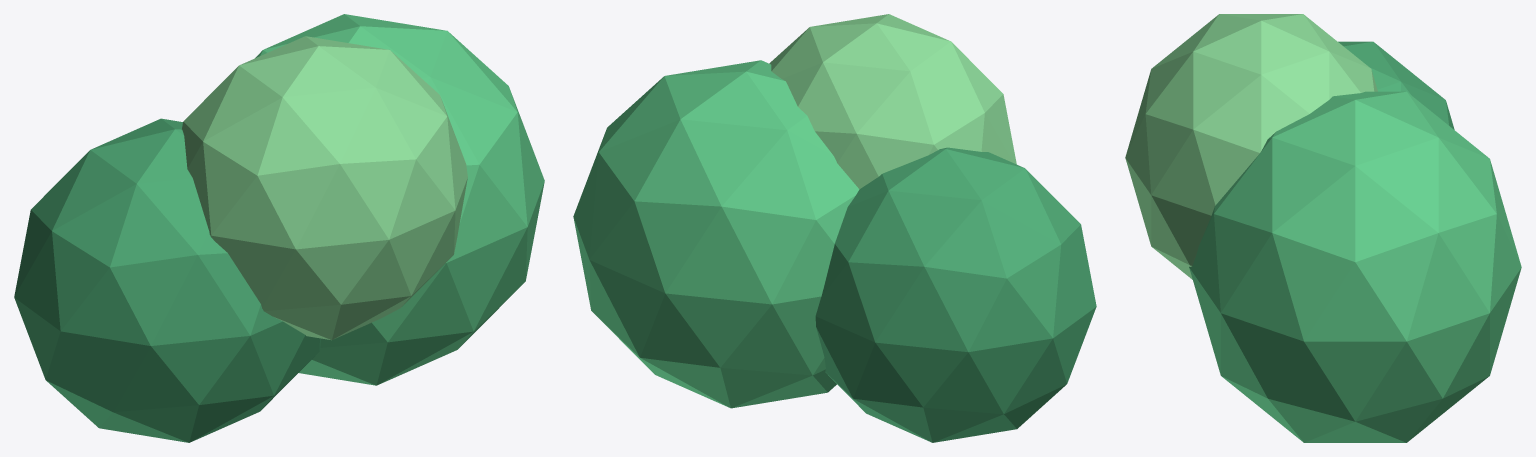
Rendered from shrub_round.glb.
3 views of the same model, side by side, from view 1: azimuth 30°, elevation 25°; view 2: azimuth 150°, elevation 25°; view 3: azimuth 270°, elevation 25° (orthographic). The views are drawn at different scales.
Visible parts, largest first — view 1: shrub_round__Shrub lobe.002, shrub_round__Shrub lobe, shrub_round__Shrub lobe.001; view 2: shrub_round__Shrub lobe.001, shrub_round__Shrub lobe, shrub_round__Shrub lobe.002; view 3: shrub_round__Shrub lobe.001, shrub_round__Shrub lobe.002, shrub_round__Shrub lobe.
Part boxes in pixels (left/top/right/bottom): shrub_round__Shrub lobe.002: left=182, top=36, right=467, bottom=340; shrub_round__Shrub lobe: left=14, top=118, right=320, bottom=442; shrub_round__Shrub lobe.001: left=255, top=14, right=544, bottom=385; shrub_round__Shrub lobe.001: left=573, top=60, right=859, bottom=408; shrub_round__Shrub lobe: left=815, top=147, right=1096, bottom=442; shrub_round__Shrub lobe.002: left=769, top=14, right=1016, bottom=189; shrub_round__Shrub lobe.001: left=1189, top=91, right=1521, bottom=442; shrub_round__Shrub lobe.002: left=1125, top=14, right=1377, bottom=279; shrub_round__Shrub lobe: left=1338, top=41, right=1454, bottom=129.
Size of the model in its own units: 0.3279 by 0.244 by 0.236.
